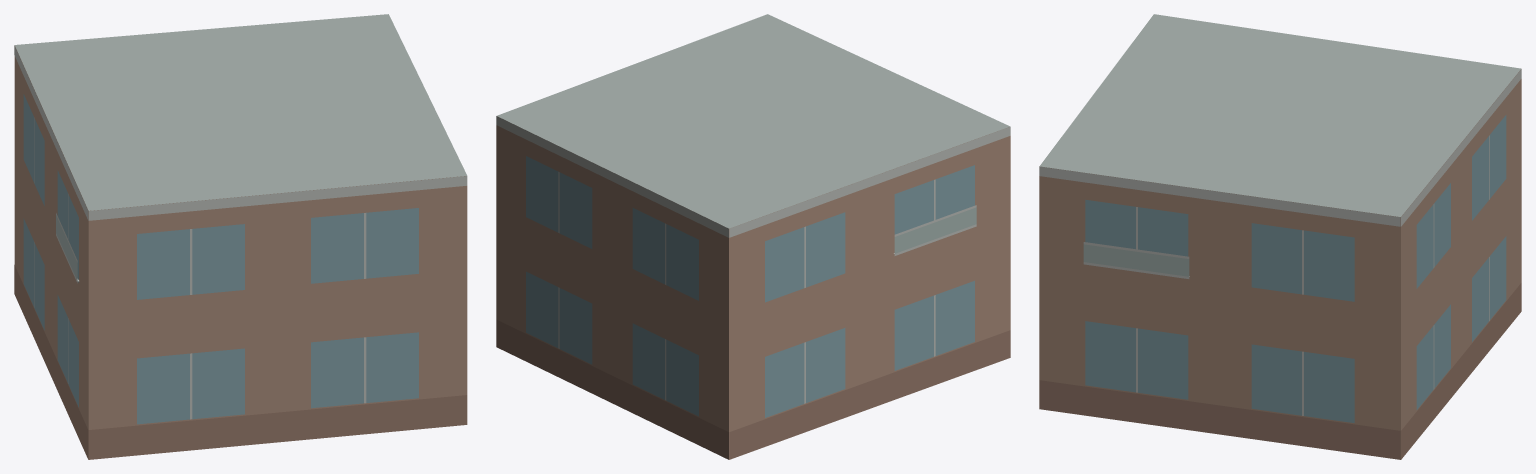
File: survey-upis-32477431.glb
The picture shows the model from 3 angles, left to right: view 1: azimuth 30°, elevation 25°; view 2: azimuth 150°, elevation 25°; view 3: azimuth 270°, elevation 25°; orthographic projection. The views are drawn at different scales.
Visible parts, largest first — view 1: survey-upis-32477431.tmp; view 2: survey-upis-32477431.tmp; view 3: survey-upis-32477431.tmp.
Boxes of the visible parts, x1=… form: survey-upis-32477431.tmp: x1=14, y1=14, x2=467, y2=459; survey-upis-32477431.tmp: x1=496, y1=14, x2=1010, y2=459; survey-upis-32477431.tmp: x1=1039, y1=14, x2=1521, y2=459.
Bounding box in the file's own units: 10.96 × 6.1 × 10.99.
